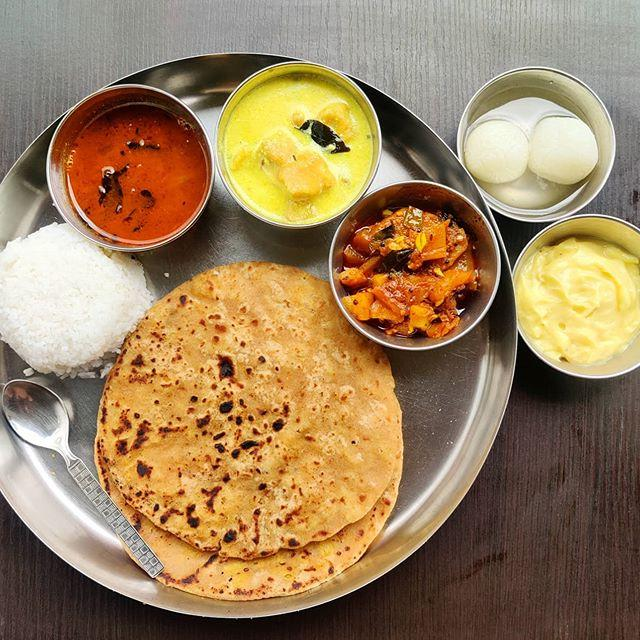Roti: (98, 260, 404, 600)
White Rice: (0, 222, 151, 378)
